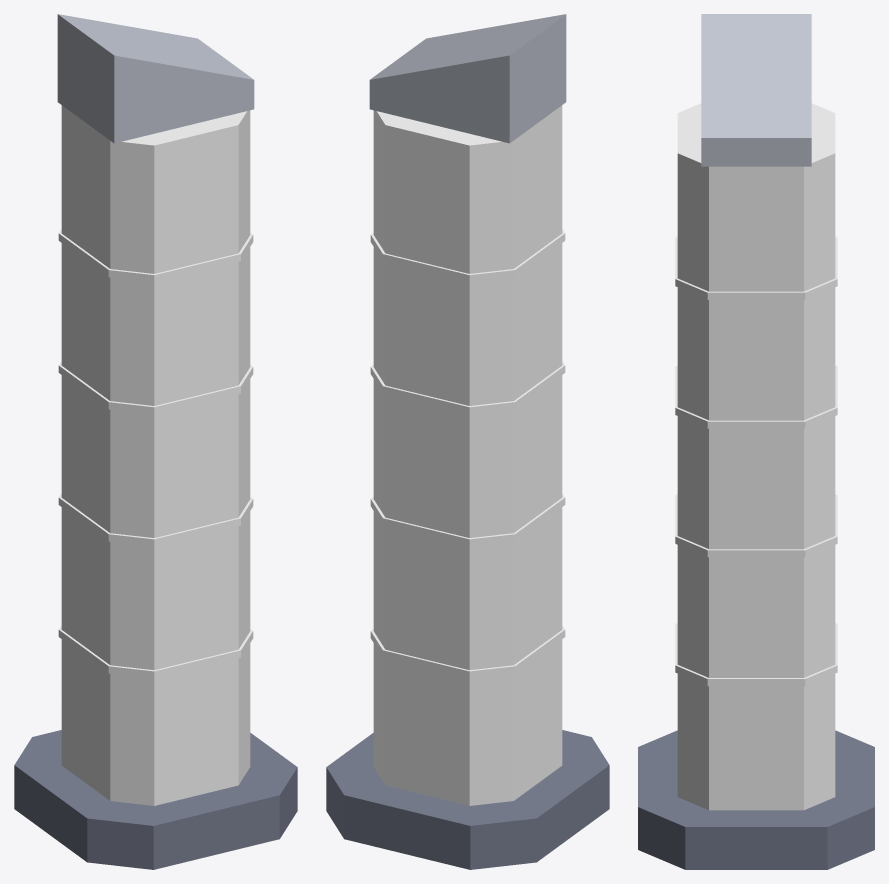
File: Race_tower2.fbx
The picture shows the model from 3 angles, left to right: view 1: azimuth 30°, elevation 25°; view 2: azimuth 150°, elevation 25°; view 3: azimuth 270°, elevation 25°; orthographic projection. The views are drawn at different scales.
Visible parts, largest first — view 1: Race_tower2; view 2: Race_tower2; view 3: Race_tower2.
Part boxes in pixels (<box>): Race_tower2: <box>14,14,297,869</box>; Race_tower2: <box>326,14,609,869</box>; Race_tower2: <box>638,14,874,869</box>.
Size of the model in its own units: 30 by 108 by 30.
